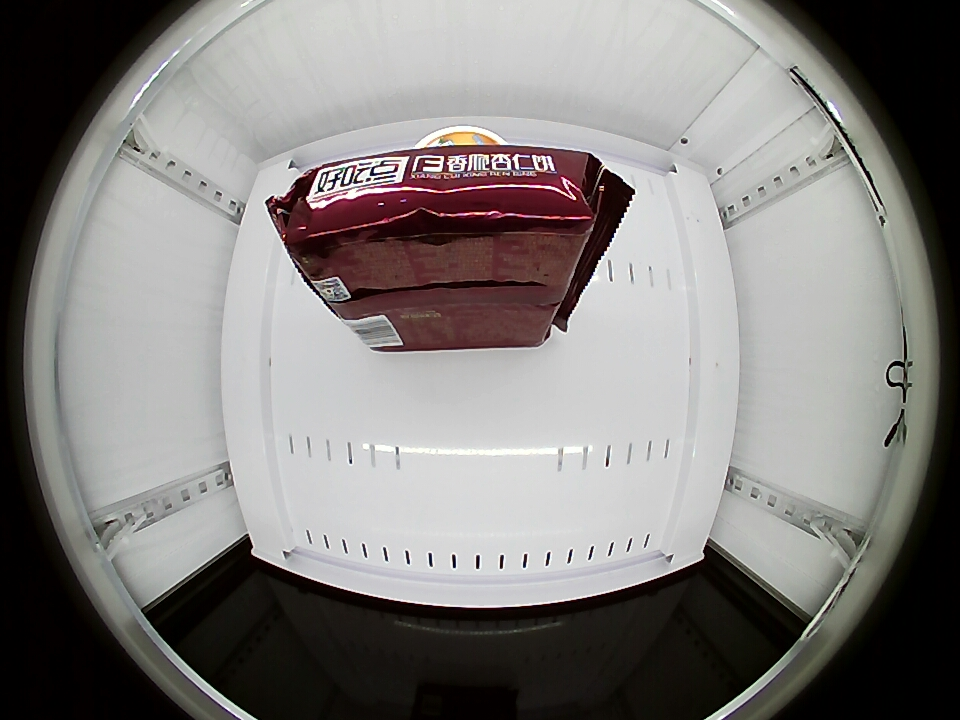haochidian: (269, 148, 613, 287)
